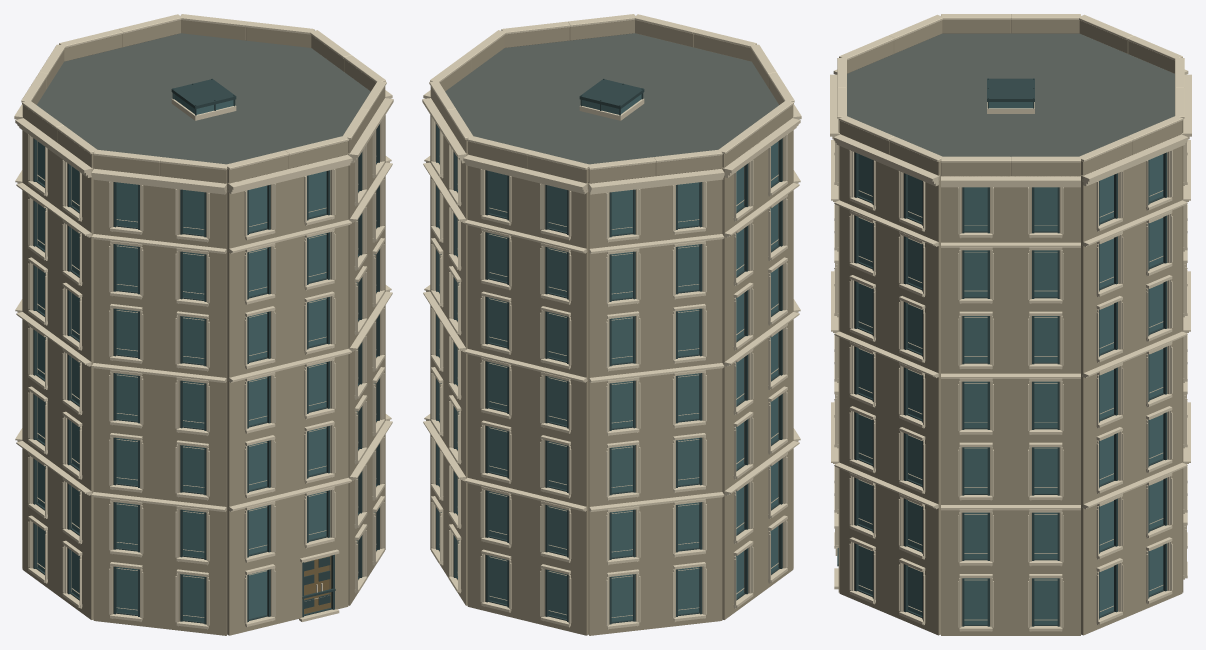
File: faceted-tower.glb
The picture shows the model from 3 angles, left to right: view 1: azimuth 30°, elevation 25°; view 2: azimuth 150°, elevation 25°; view 3: azimuth 270°, elevation 25°; orthographic projection.
Parts seen in each view (by area): view 1: Roof main.022, Foundation.041, main/edge:facet5/4/2500/wall, main/edge:facet5/0/2500/wall, main/edge:facet5/2/2500/wall, collection/roof/frame.013, main/edge:facet5/0/7500/wall, main/edge:facet5/2/7500/wall, main/edge:facet5/4/7500/wall, main/edge:facet4/0/2500/frame, main/edge:facet5/1/2500/wall, main/edge:facet5/3/2500/wall (+167 smaller); view 2: Roof main.022, Foundation.041, main/edge:facet7/4/7500/wall, main/edge:facet7/0/7500/wall, main/edge:facet7/2/7500/wall, collection/roof/frame.013, main/edge:facet7/0/2500/wall, main/edge:facet7/2/2500/wall, main/edge:facet7/4/2500/wall, main/edge:facet7/1/7500/wall, main/edge:facet7/3/7500/wall, main/edge:facet7/5/7500/wall (+167 smaller); view 3: Roof main.022, Foundation.041, main/edge:facet2/0/2500/wall, main/edge:facet2/0/7500/wall, main/edge:facet2/2/2500/wall, main/edge:facet2/2/7500/wall, main/edge:facet2/4/2500/wall, main/edge:facet2/4/7500/wall, main/edge:facet2/1/2500/wall, main/edge:facet2/1/7500/wall, main/edge:facet2/3/2500/wall, main/edge:facet2/3/7500/wall (+201 smaller).
Boxes of the visible parts, x1=… form: Roof main.022: x1=37, y1=33, x2=370, y2=182; Foundation.041: x1=37, y1=156, x2=376, y2=617; main/edge:facet5/4/2500/wall: x1=170, y1=307, x2=216, y2=376; main/edge:facet5/0/2500/wall: x1=170, y1=565, x2=216, y2=634; main/edge:facet5/2/2500/wall: x1=170, y1=436, x2=216, y2=505; collection/roof/frame.013: x1=171, y1=78, x2=236, y2=115; main/edge:facet5/0/7500/wall: x1=104, y1=557, x2=149, y2=627; main/edge:facet5/2/7500/wall: x1=104, y1=428, x2=149, y2=498; main/edge:facet5/4/7500/wall: x1=104, y1=299, x2=149, y2=369; main/edge:facet4/0/2500/frame: x1=302, y1=554, x2=335, y2=617; main/edge:facet5/1/2500/wall: x1=170, y1=506, x2=216, y2=570; main/edge:facet5/3/2500/wall: x1=170, y1=377, x2=216, y2=441; Roof main.022: x1=445, y1=33, x2=778, y2=182; Foundation.041: x1=439, y1=156, x2=778, y2=617; main/edge:facet7/4/7500/wall: x1=599, y1=307, x2=645, y2=376; main/edge:facet7/0/7500/wall: x1=599, y1=565, x2=645, y2=634; main/edge:facet7/2/7500/wall: x1=599, y1=436, x2=645, y2=505; collection/roof/frame.013: x1=579, y1=78, x2=644, y2=115; main/edge:facet7/0/2500/wall: x1=666, y1=557, x2=711, y2=627; main/edge:facet7/2/2500/wall: x1=666, y1=428, x2=711, y2=498; main/edge:facet7/4/2500/wall: x1=666, y1=299, x2=711, y2=369; main/edge:facet7/1/7500/wall: x1=599, y1=506, x2=645, y2=570; main/edge:facet7/3/7500/wall: x1=599, y1=377, x2=645, y2=441; main/edge:facet7/5/7500/wall: x1=599, y1=248, x2=645, y2=312; Roof main.022: x1=847, y1=33, x2=1174, y2=175; Foundation.041: x1=858, y1=190, x2=1163, y2=620; main/edge:facet2/0/2500/wall: x1=1022, y1=570, x2=1069, y2=635; main/edge:facet2/0/7500/wall: x1=952, y1=570, x2=999, y2=635; main/edge:facet2/2/2500/wall: x1=1022, y1=439, x2=1069, y2=504; main/edge:facet2/2/7500/wall: x1=952, y1=439, x2=999, y2=504; main/edge:facet2/4/2500/wall: x1=1022, y1=308, x2=1069, y2=373; main/edge:facet2/4/7500/wall: x1=952, y1=308, x2=999, y2=373; main/edge:facet2/1/2500/wall: x1=1022, y1=510, x2=1069, y2=570; main/edge:facet2/1/7500/wall: x1=952, y1=510, x2=999, y2=570; main/edge:facet2/3/2500/wall: x1=1022, y1=379, x2=1069, y2=439; main/edge:facet2/3/7500/wall: x1=952, y1=379, x2=999, y2=439.
Bounding box in the file's own units: 15 × 21.87 × 15.
